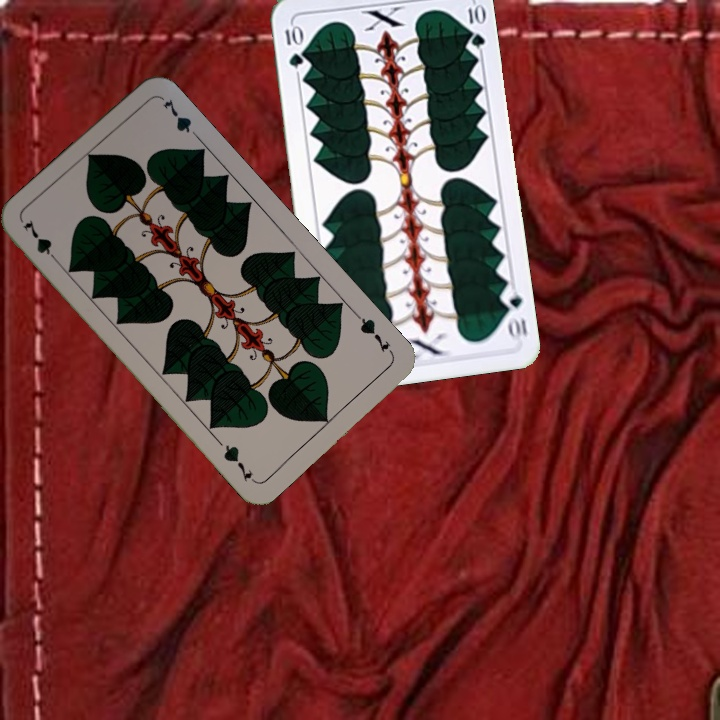G10: (497, 283, 530, 342), (281, 21, 305, 71)
G7: (18, 215, 63, 267), (351, 310, 396, 358)
